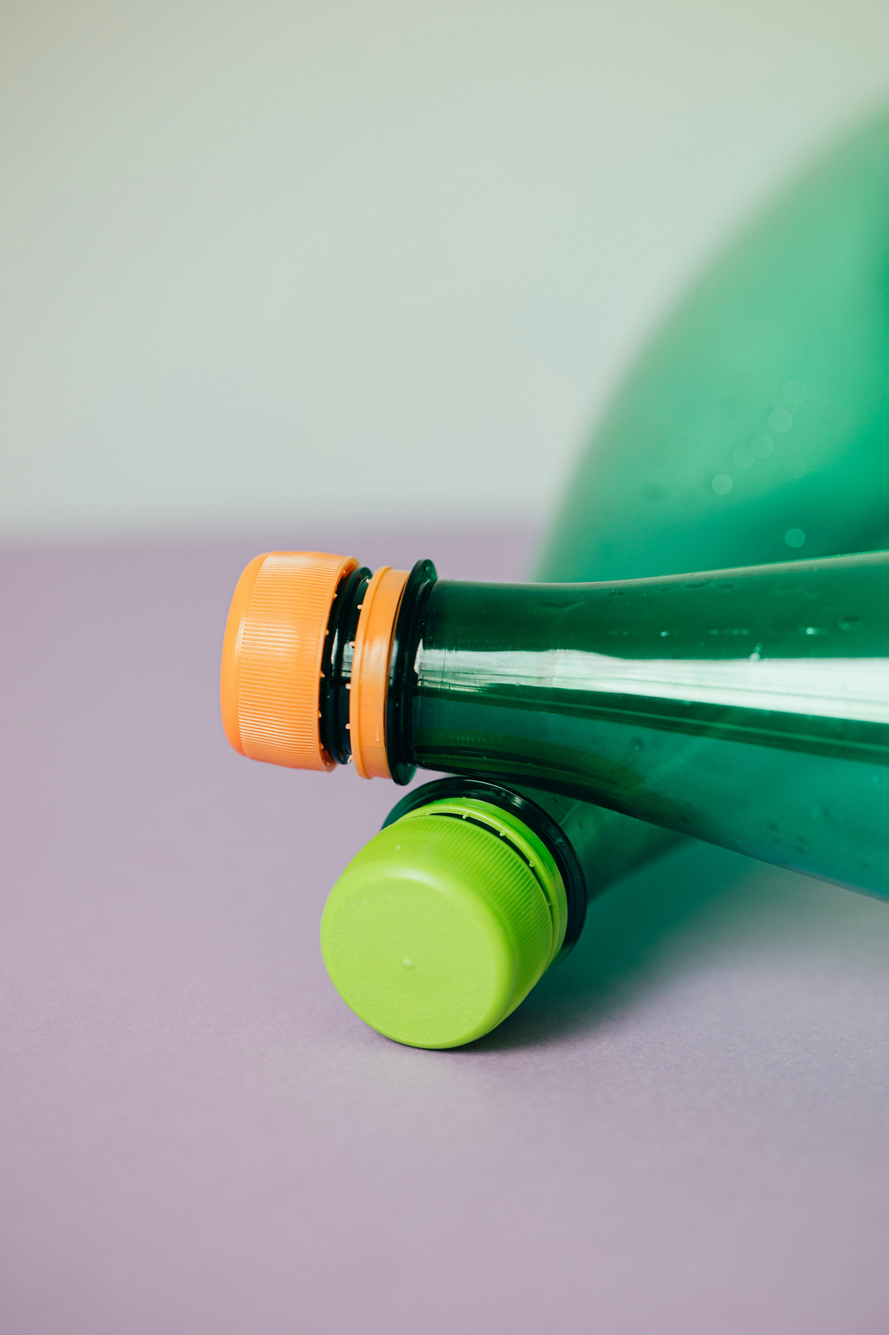Bottle-Detection: (268, 87, 889, 1073), (158, 494, 889, 942)
